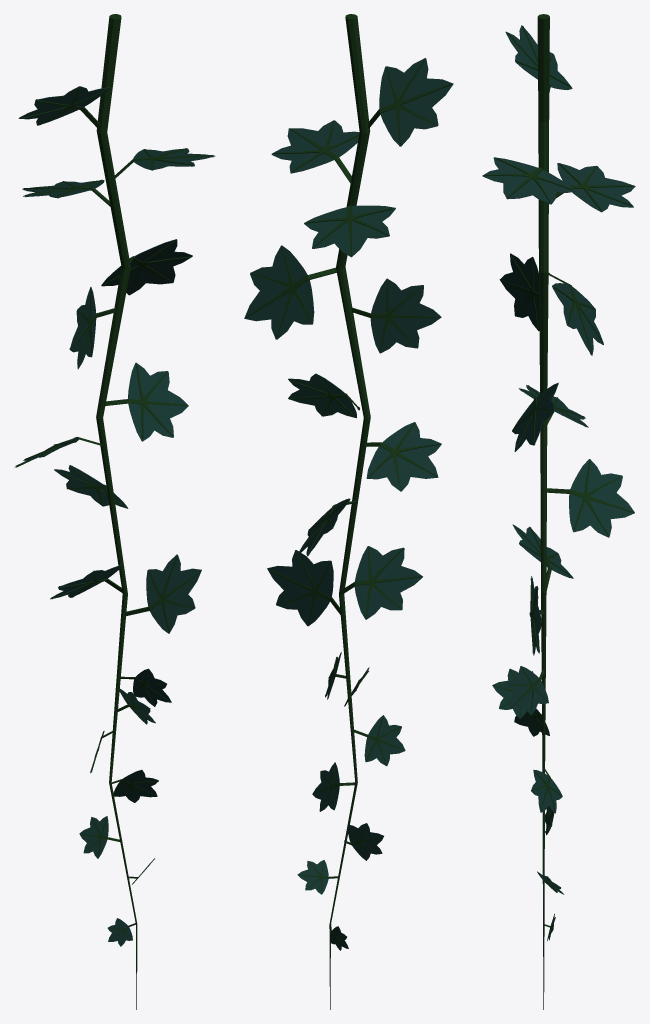
Rendered from ivy.obj.
3 views of the same model, side by side, from view 1: azimuth 30°, elevation 25°; view 2: azimuth 150°, elevation 25°; view 3: azimuth 270°, elevation 25° (orthographic).
Size of the model in its own units: 2.11 by 10.97 by 1.55.
